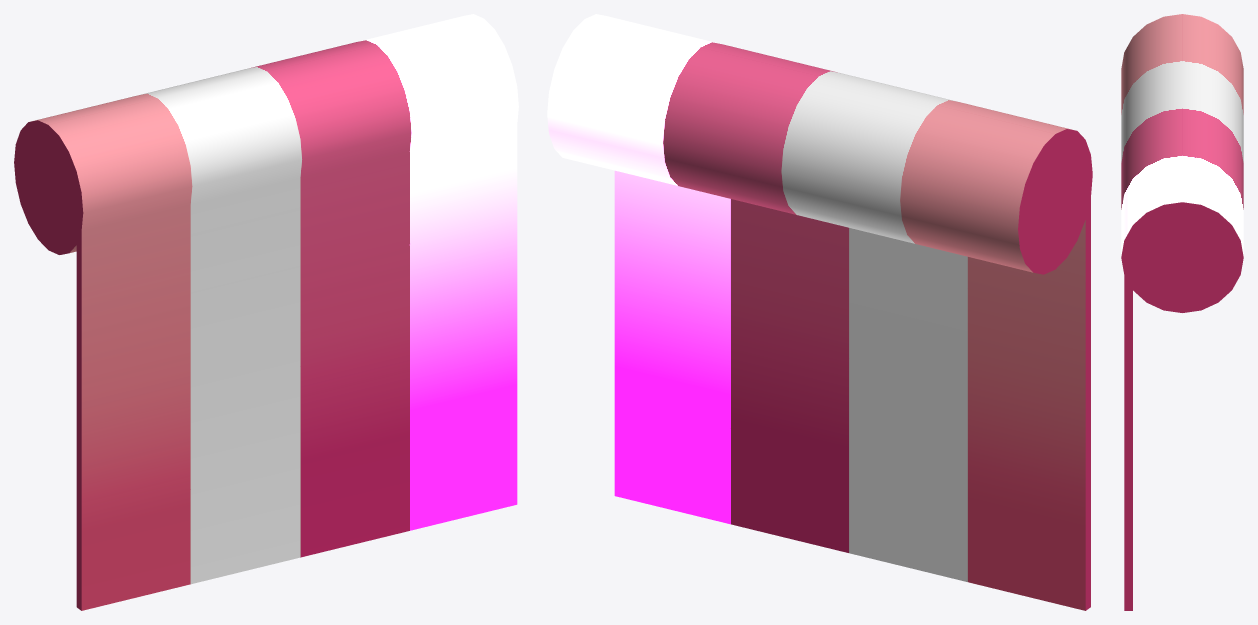
Rendered from ColorSet_03.fbx.
The picture shows the model from 3 angles, left to right: view 1: azimuth 30°, elevation 25°; view 2: azimuth 150°, elevation 25°; view 3: azimuth 270°, elevation 25°; orthographic projection. The views are drawn at different scales.
Parts seen in each view (by area): view 1: ColorSet_03; view 2: ColorSet_03; view 3: ColorSet_03.
Boxes of the visible parts, x1,y1,x2,y2 form: ColorSet_03: [14, 14, 518, 610]; ColorSet_03: [547, 14, 1092, 610]; ColorSet_03: [1121, 14, 1243, 610].
Bounding box in the file's own units: 66.97 × 18.42 × 67.84.
